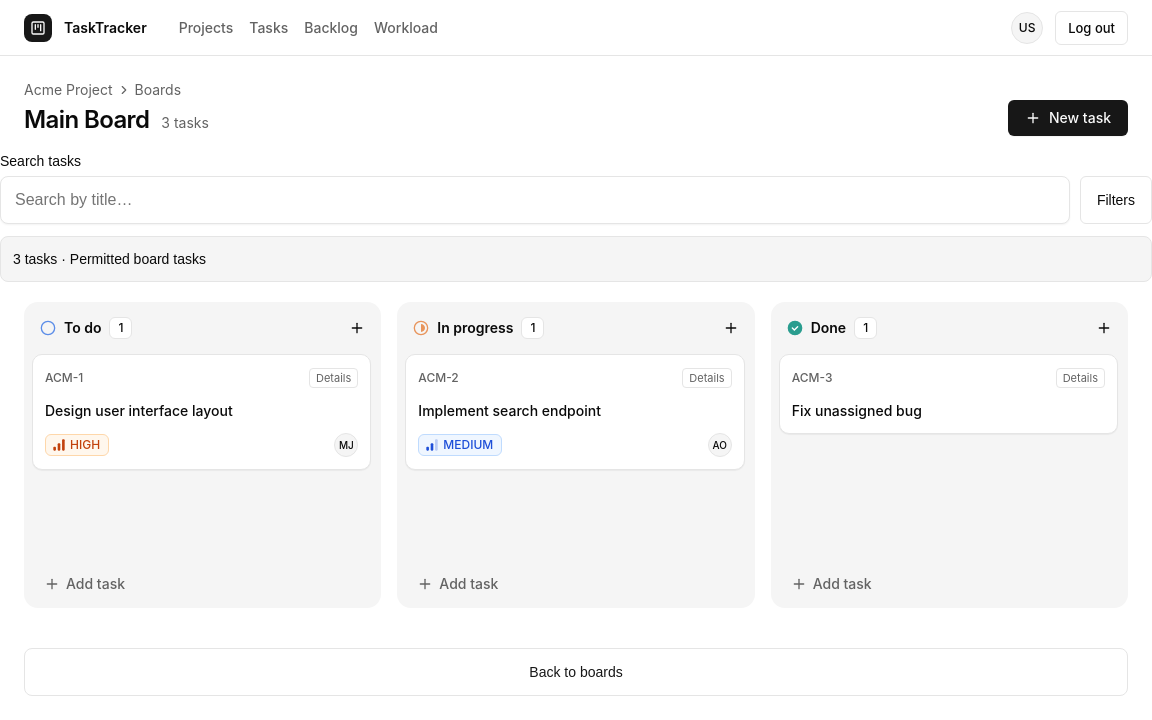
it: [US-36] Search and filter tasks on board acceptance tests › State 06: displays feedback banner and Adjust filters button when no tasks match
The image size is (1152, 720).
Check: the heading "Main Board" is shown, box [24, 104, 149, 136]
// Open filter modal and apply status Done
Click the button "Filters": (1116, 200) [1080, 176, 1151, 224]
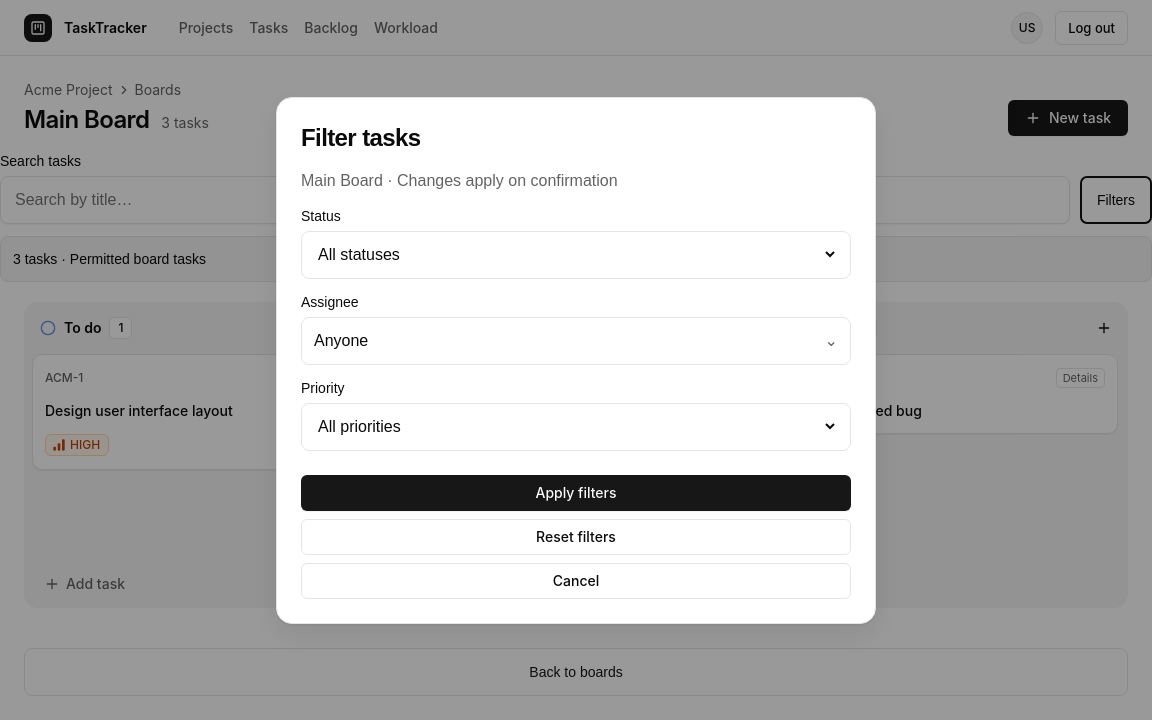
Select "Done" in the dropdown with test id "filter-status-select": (576, 254) [314, 245, 838, 264]
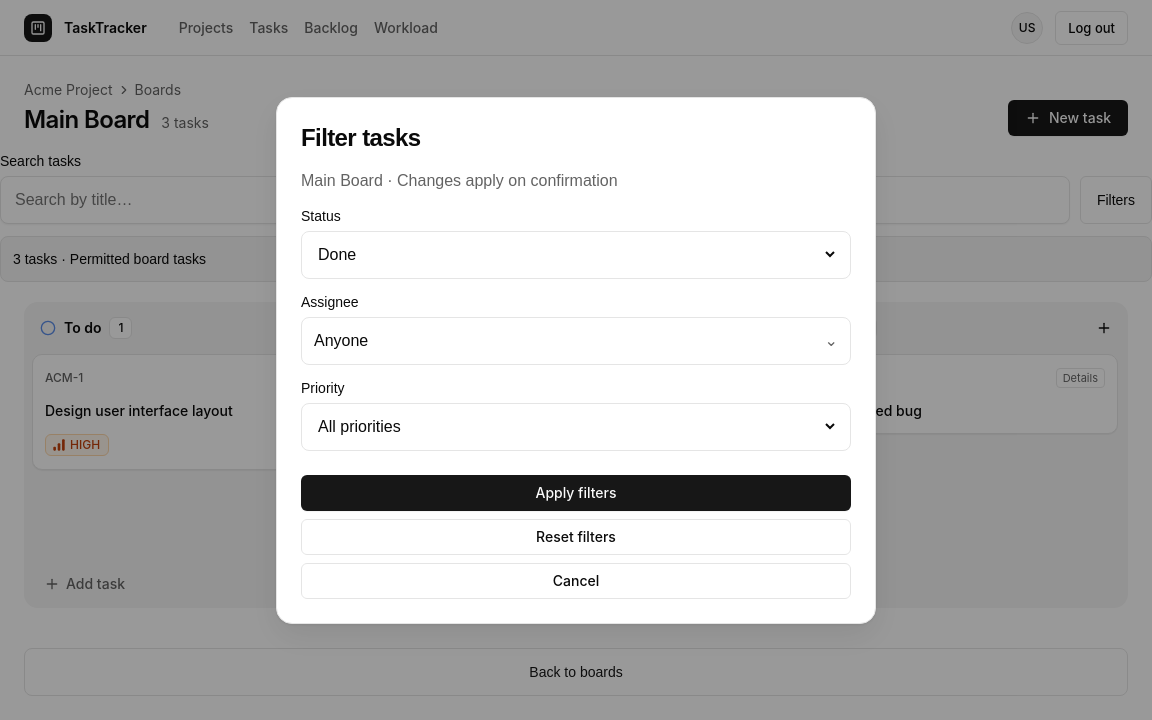
Click the button with test id "apply-filters-btn": (576, 492) [301, 474, 851, 510]
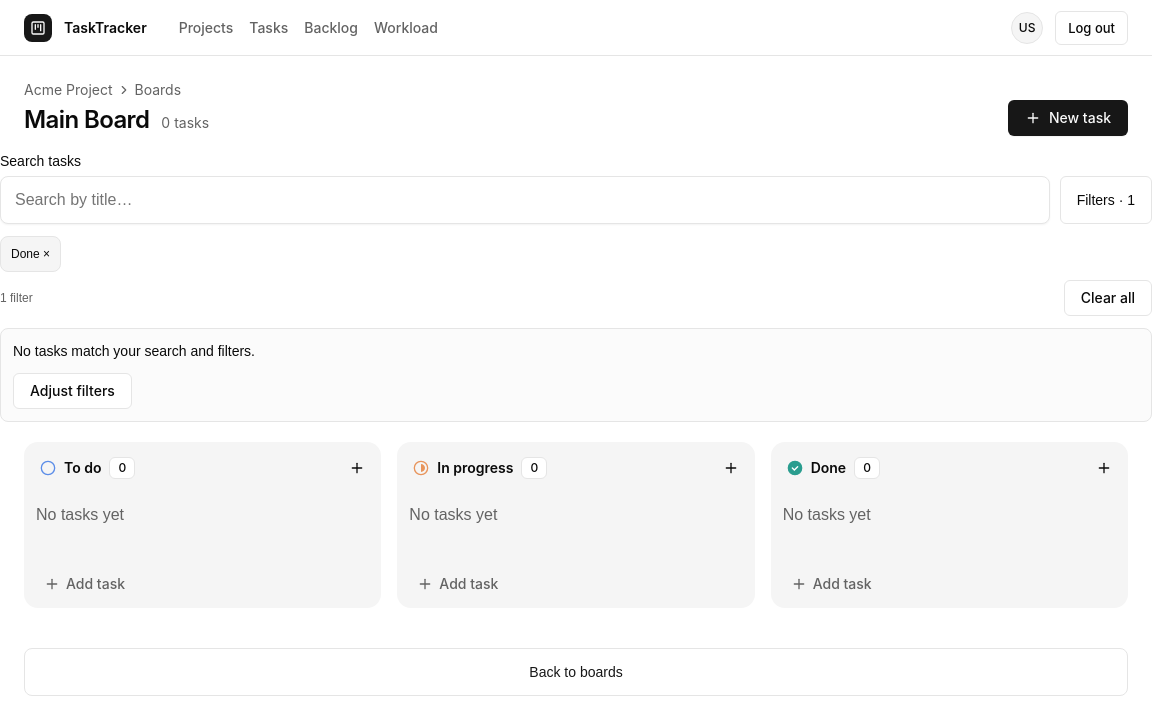
Check: the element with test id "no-matching-tasks-msg" is shown, box [0, 328, 1151, 422]
Check: the text "No tasks match your search and filters." is shown, box [13, 341, 255, 361]
// Clicking Adjust filters reopens the modal
Click the button "Adjust filters": (72, 391) [13, 373, 132, 409]
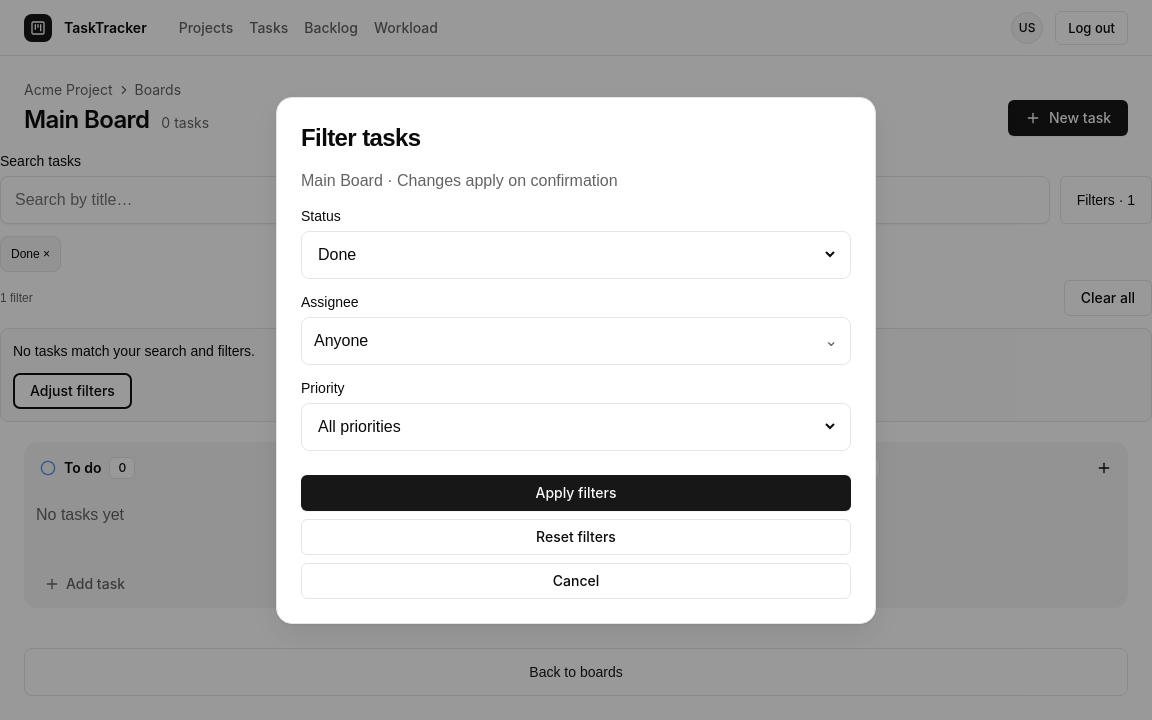
Check: the dialog with test id "filter-tasks-modal" is shown
